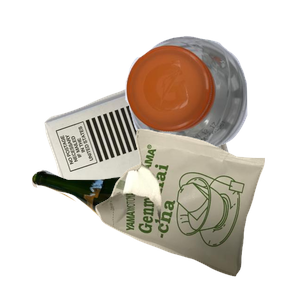glass: (29, 167, 241, 300)
paper: (42, 68, 275, 248)
plastic: (123, 33, 300, 181)
trash: (93, 126, 300, 300)
